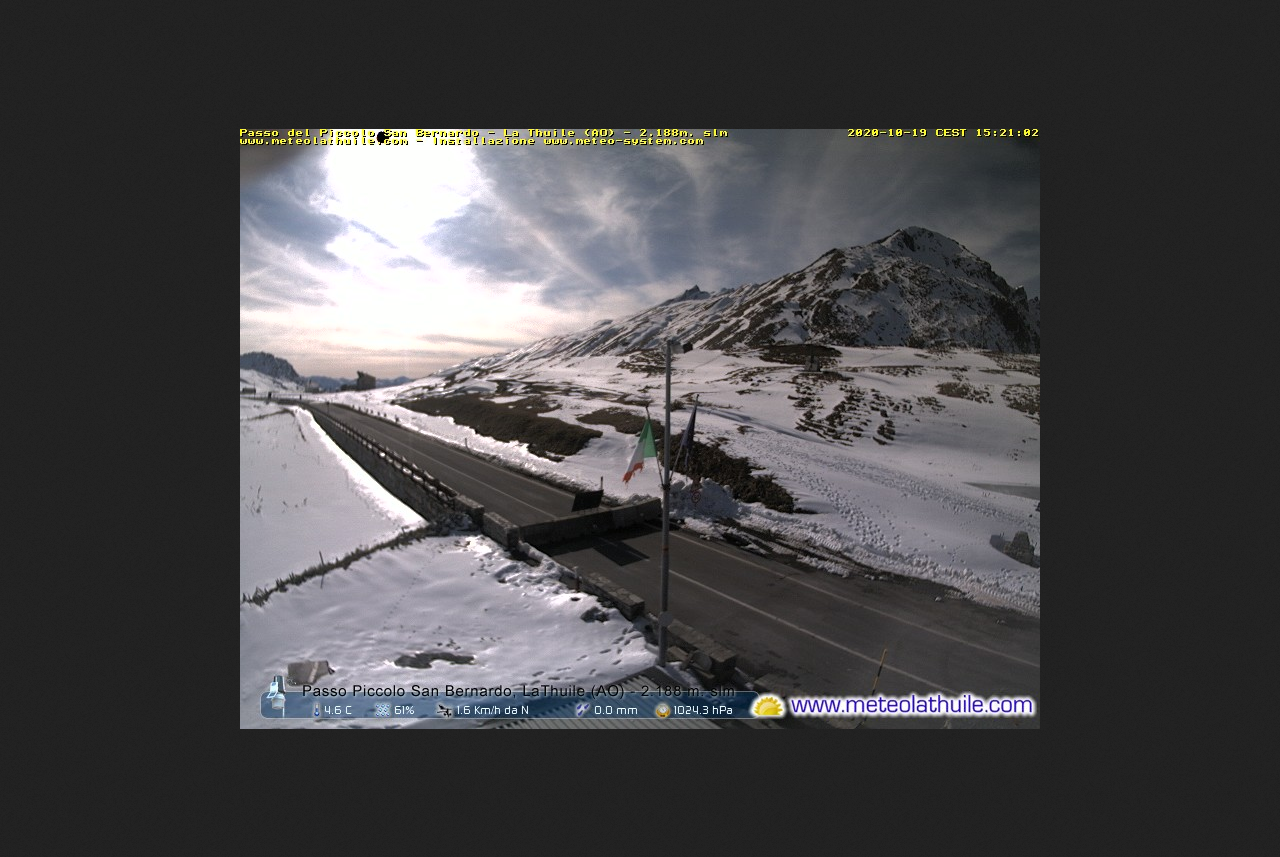maybe: (616, 408, 665, 488)
no: (673, 402, 700, 480)
